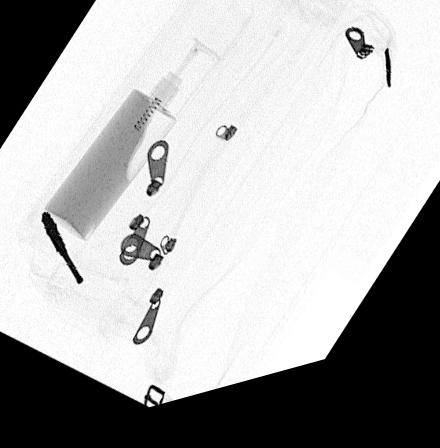Gun: (38, 209, 83, 289)
